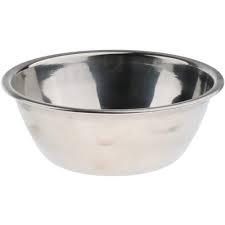Sponge Bowl: (1, 45, 223, 181)
